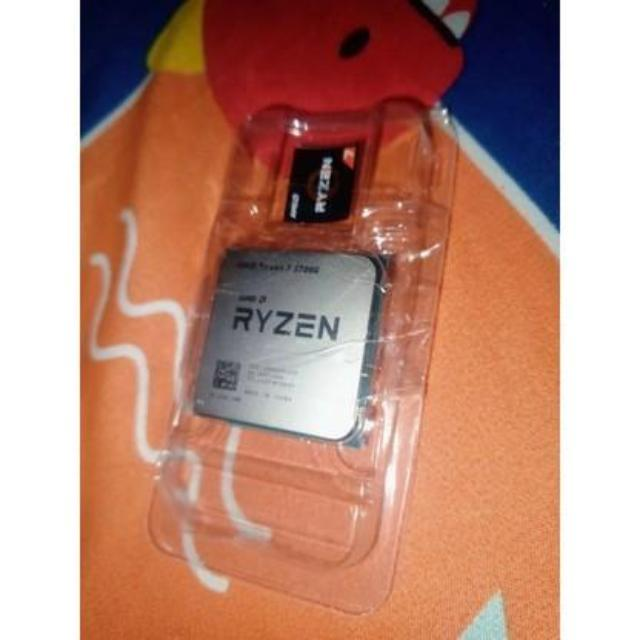CPU: (195, 244, 363, 439)
